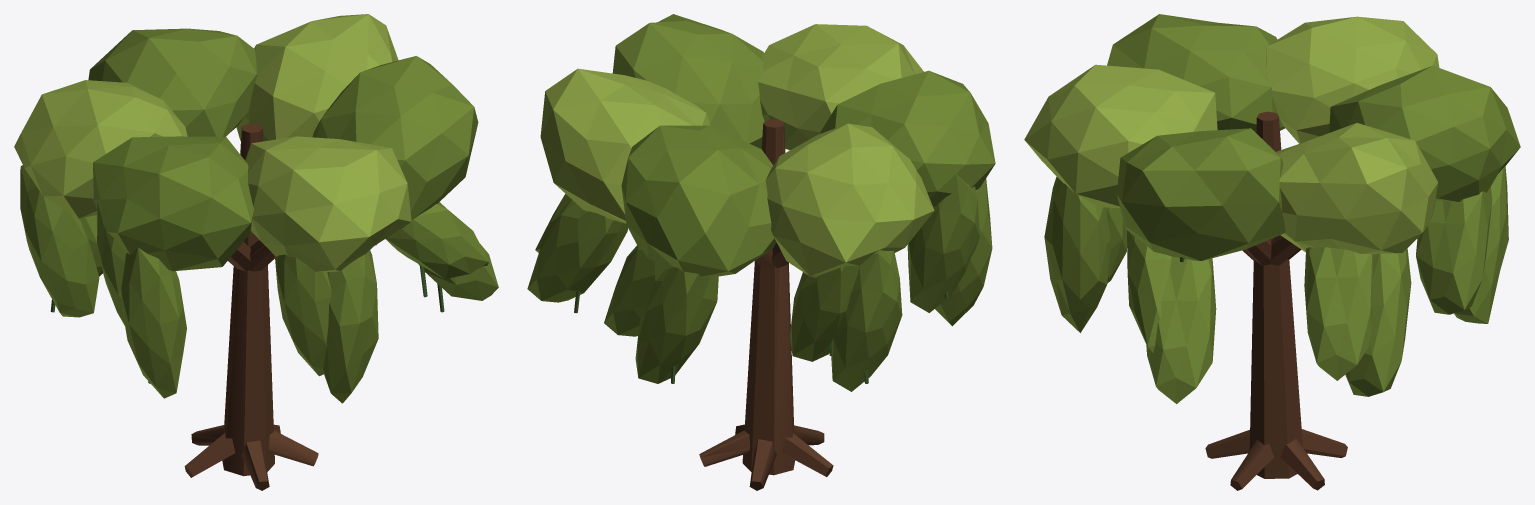
The model's file is 82_weeping_willow.fbx.
3 renders of one model, left to right at view 1: azimuth 30°, elevation 25°; view 2: azimuth 150°, elevation 25°; view 3: azimuth 270°, elevation 25°, orthographic. The views are drawn at different scales.
Visible parts, largest first — view 1: 82_weeping_willow; view 2: 82_weeping_willow; view 3: 82_weeping_willow.
Boxes of the visible parts, left/top/right/bottom form: 82_weeping_willow: left=14, top=14, right=498, bottom=490; 82_weeping_willow: left=527, top=14, right=995, bottom=490; 82_weeping_willow: left=1024, top=14, right=1520, bottom=490.
Bounding box in the file's own units: 3.5 × 3.46 × 3.84.
Materials: 1 (1 with a texture image).
